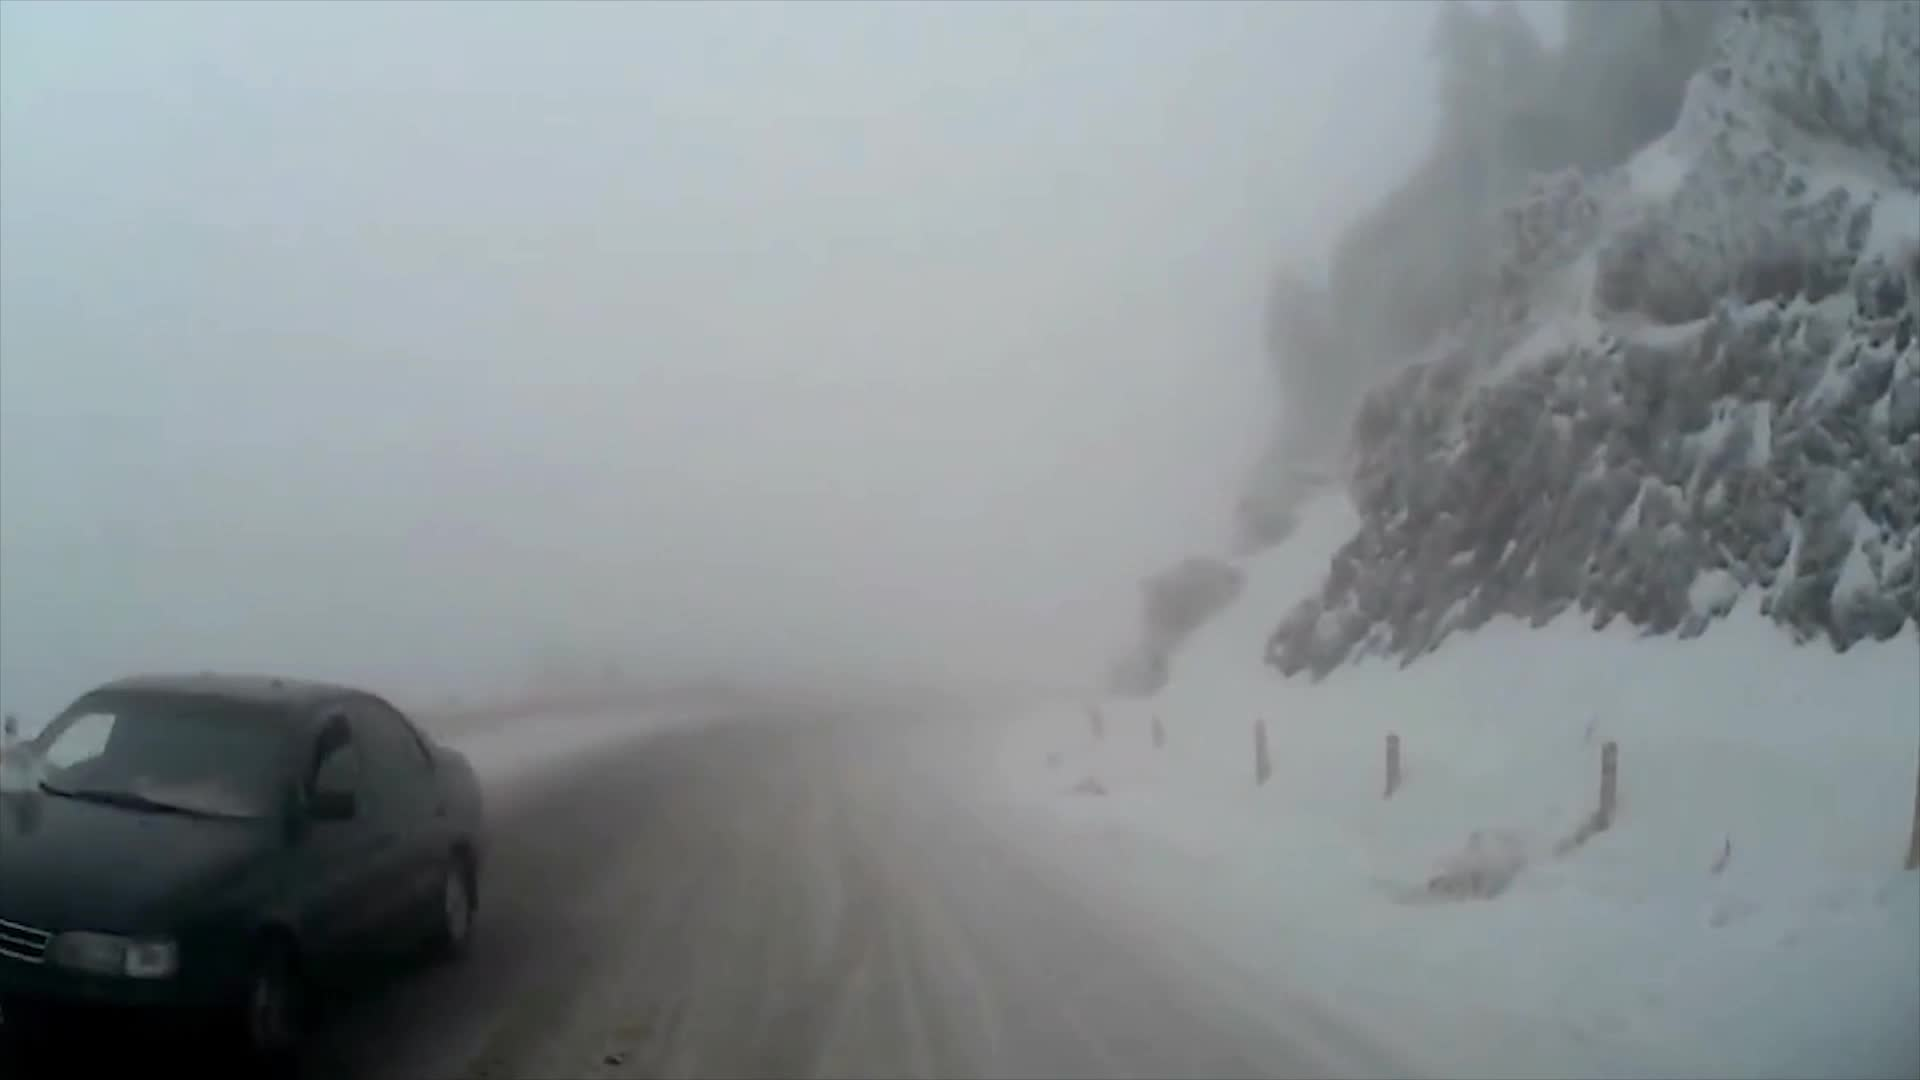vehicle: (0, 671, 489, 1080)
